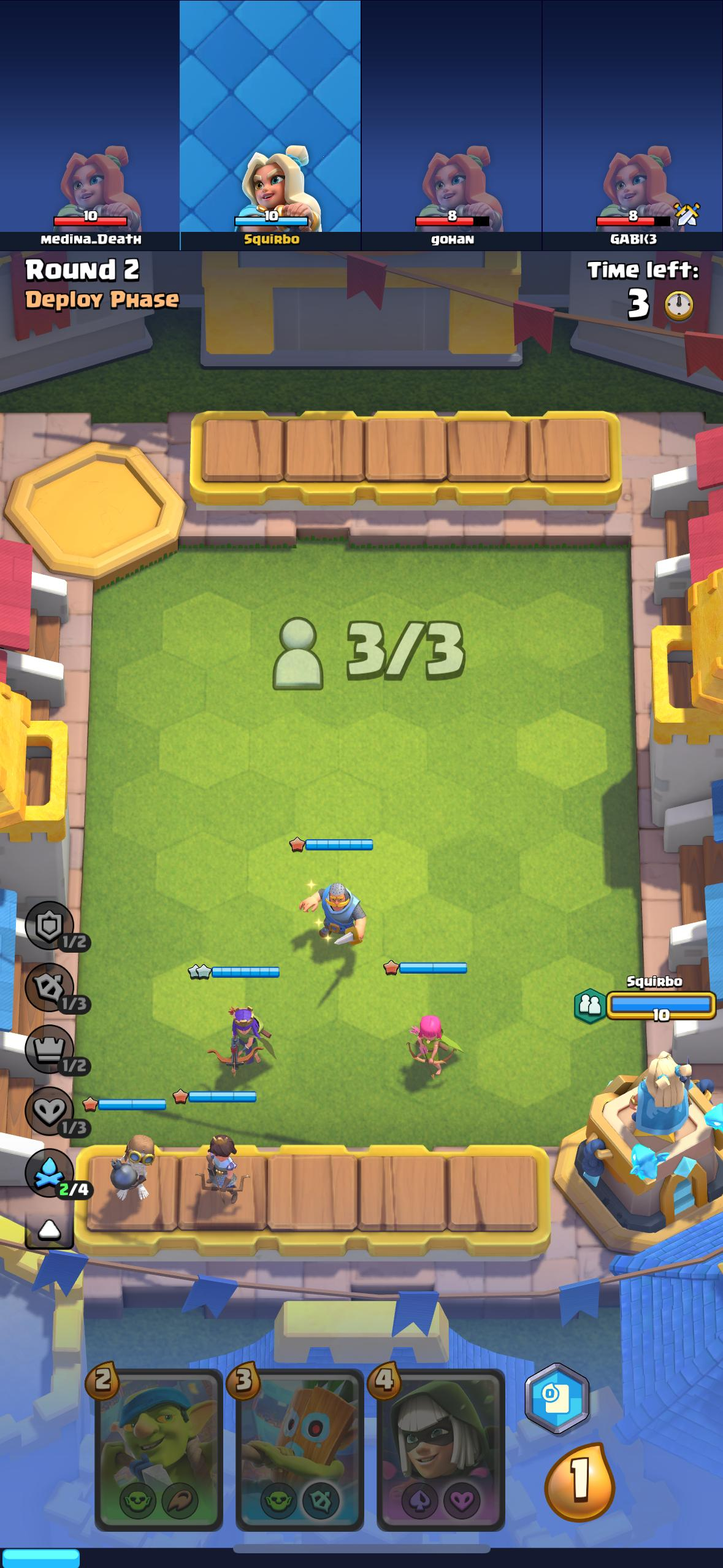archer: (411, 1008, 462, 1082)
bomber: (105, 1126, 162, 1205)
hand-bandit: (376, 1373, 502, 1528)
hand-dart: (237, 1372, 364, 1528)
hand-spear: (96, 1371, 220, 1528)
knight: (302, 874, 369, 949)
princess: (202, 1128, 247, 1203)
queen: (203, 995, 282, 1075)
